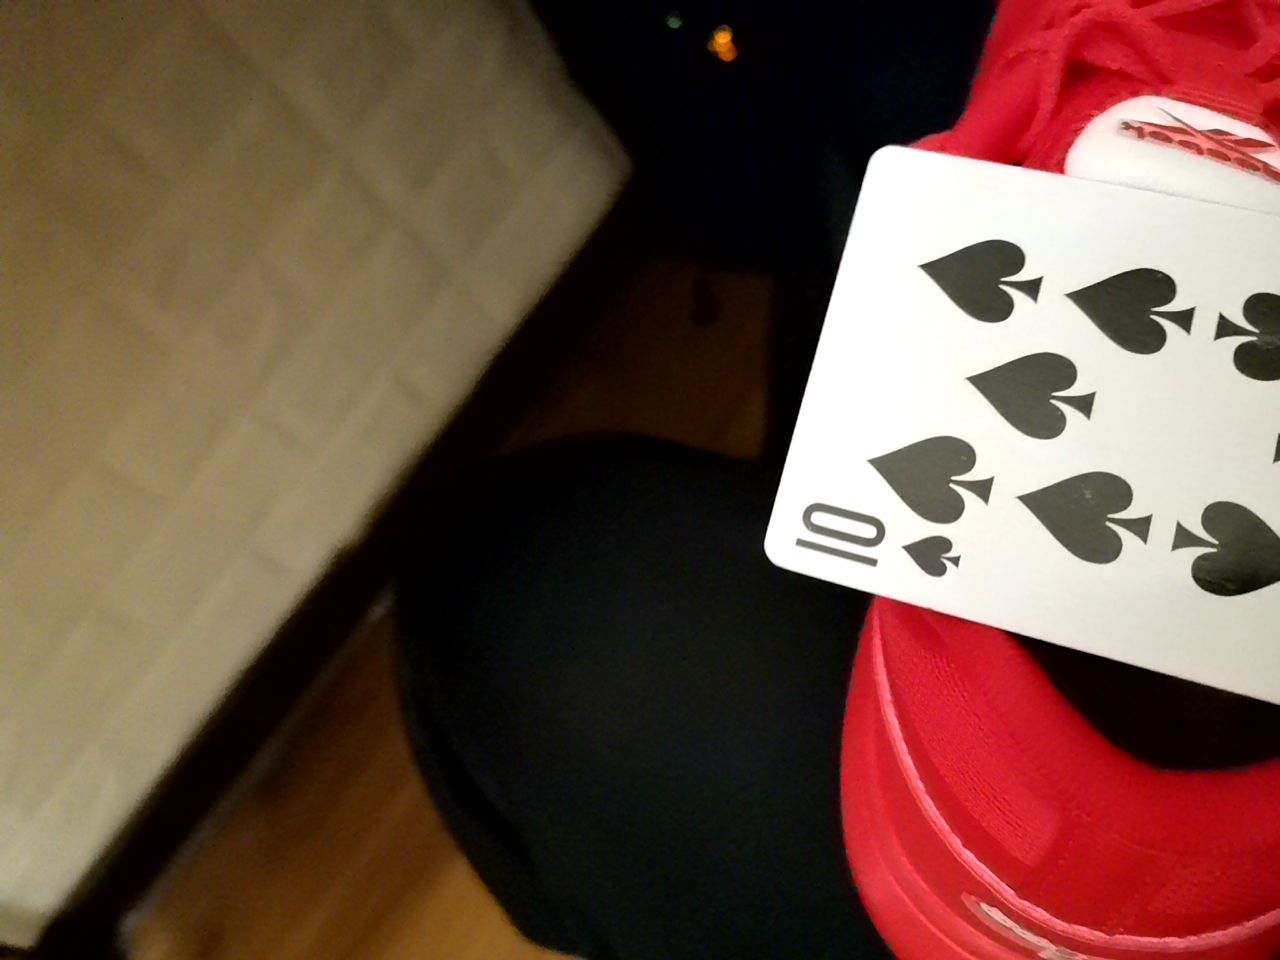ht 10: (772, 112, 1280, 689)
